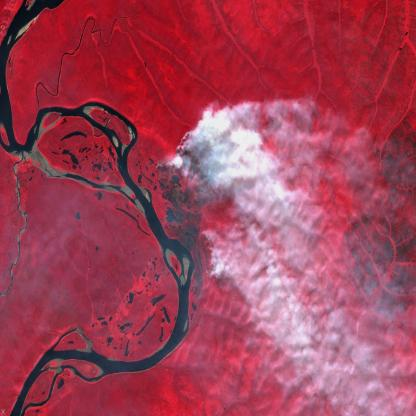fire: (175, 114, 242, 194), (192, 225, 219, 283)
